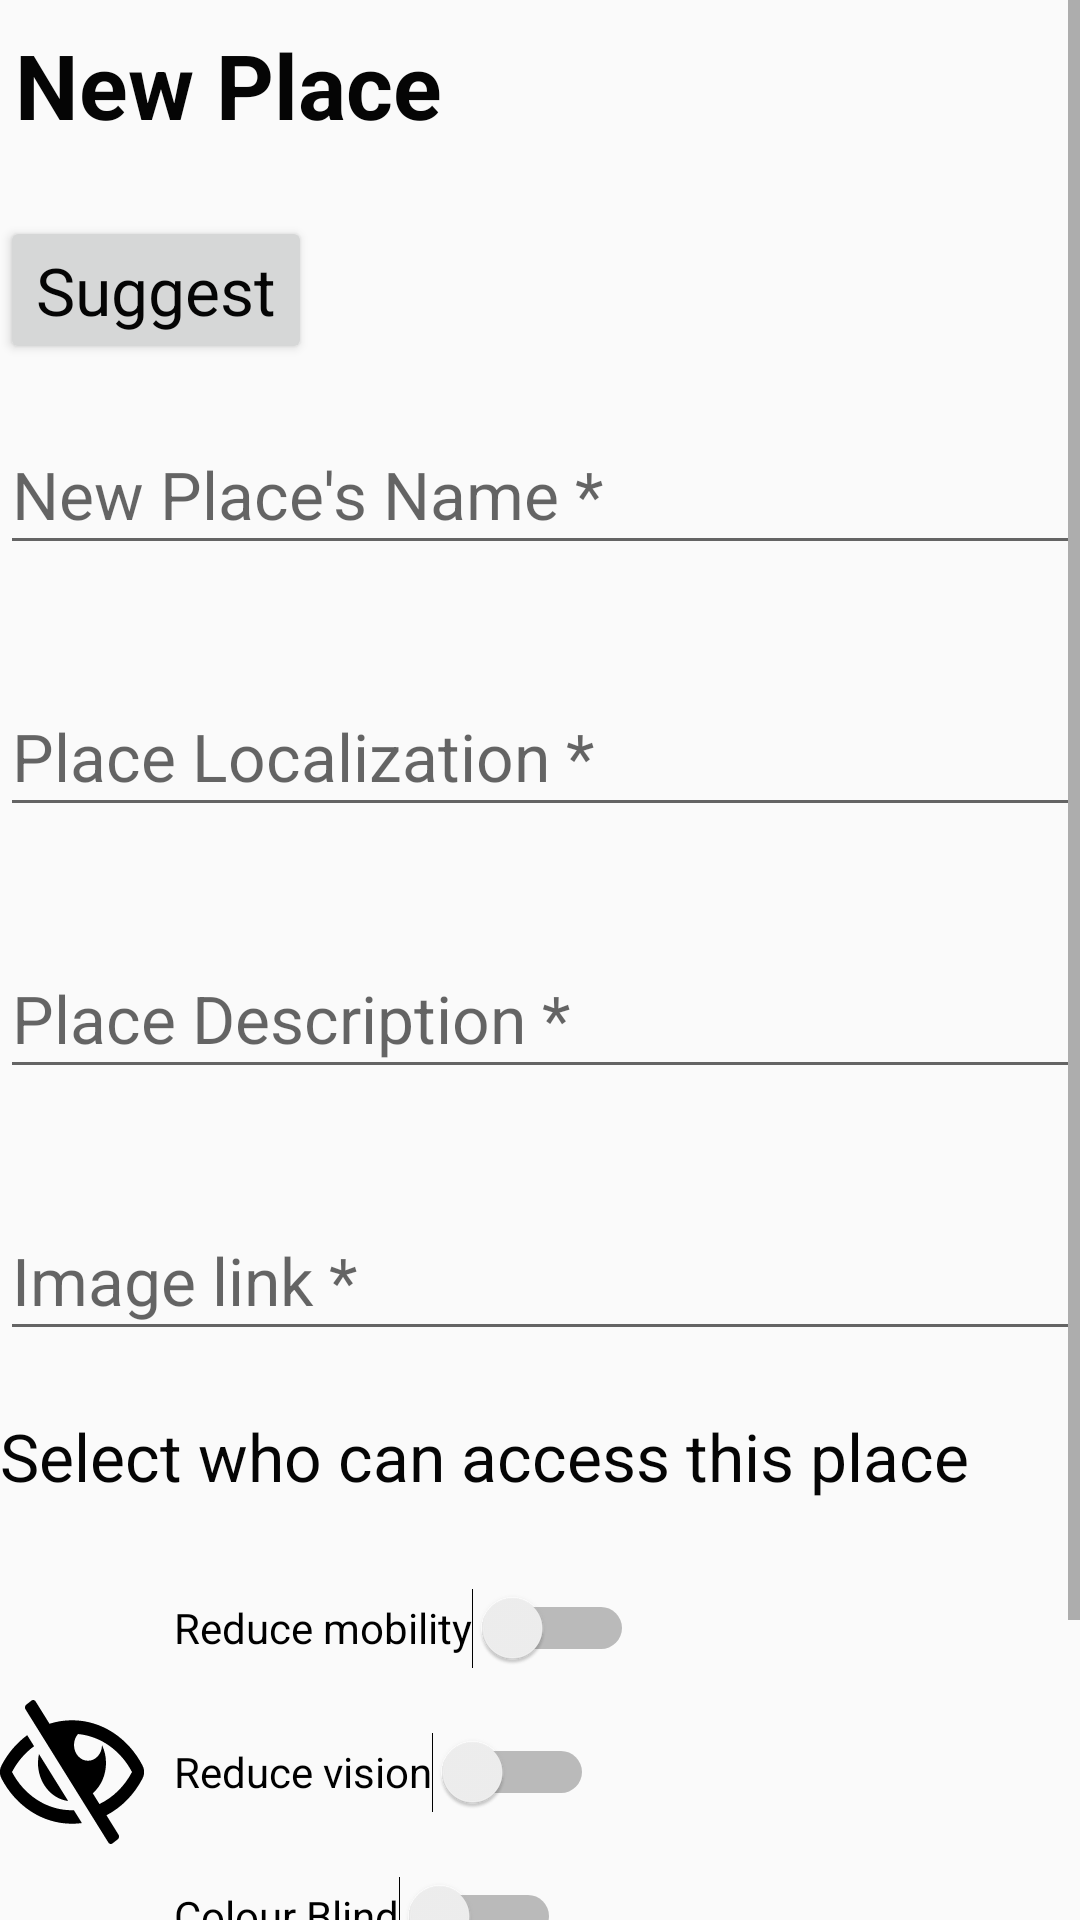

Screen size 1080 x 1920. Icon name, then its box in pixels as box(x1, y1, x2, y2):
eye slash: box(0, 1700, 144, 1844)
